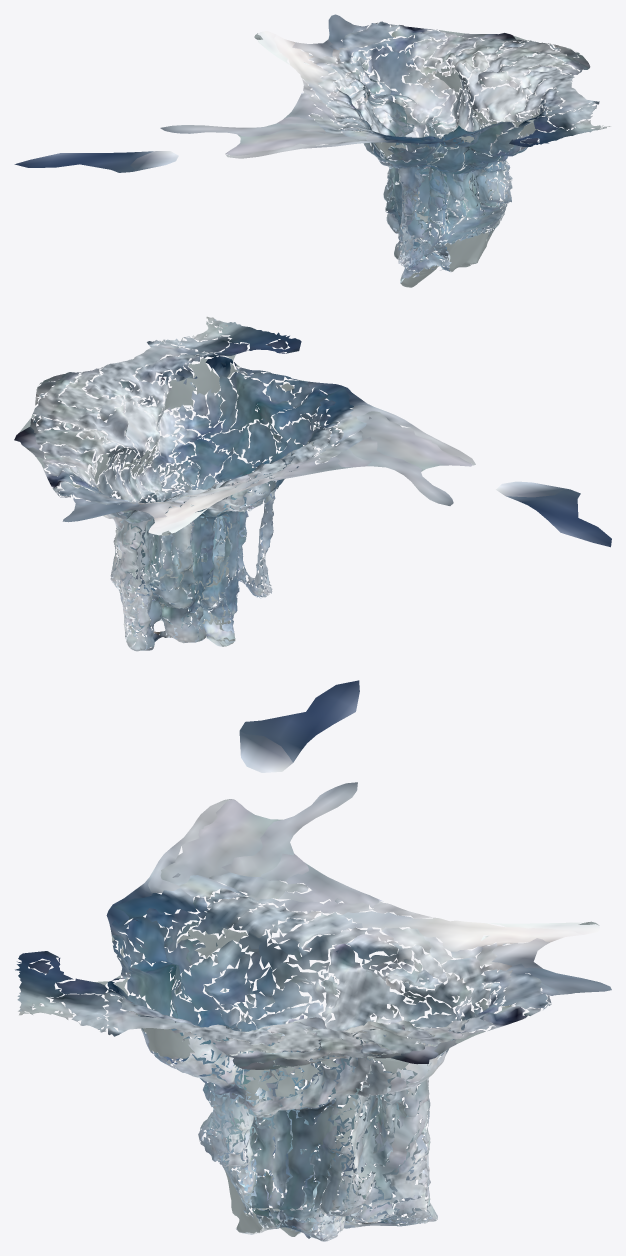
The model's file is Ice_Cave_1_Optimized.glb.
3 renders of one model, top to bottom at view 1: azimuth 30°, elevation 25°; view 2: azimuth 150°, elevation 25°; view 3: azimuth 270°, elevation 25°, orthographic. The views are drawn at different scales.
Parts seen in each view (by area): view 1: Ice_Cave_1; view 2: Ice_Cave_1; view 3: Ice_Cave_1.
Part boxes in pixels (bbox=[...]): Ice_Cave_1: bbox=[14, 14, 610, 287]; Ice_Cave_1: bbox=[14, 316, 611, 651]; Ice_Cave_1: bbox=[15, 680, 611, 1241].
Size of the model in its own units: 4.93 by 1.78 by 3.23.
7 materials, 7 textured.
